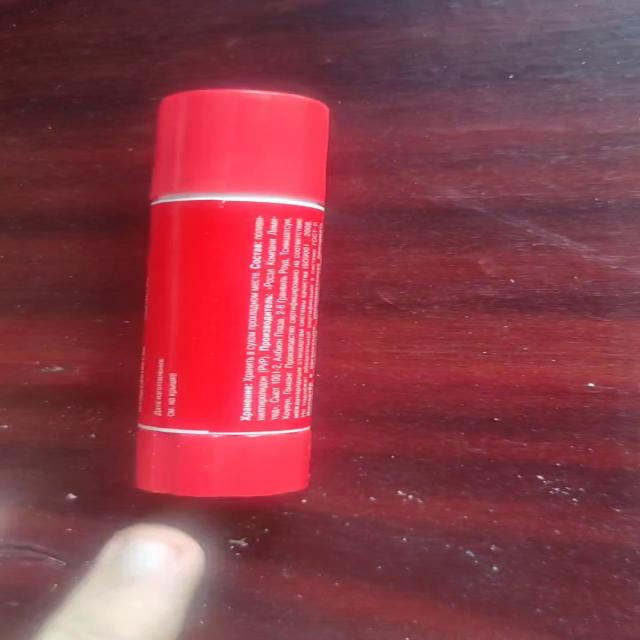glue: (133, 88, 330, 498)
